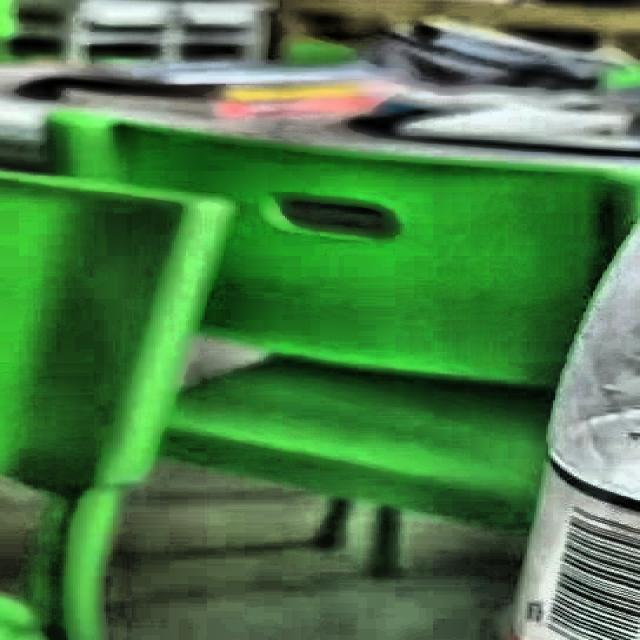plastic: (433, 0, 640, 640)
